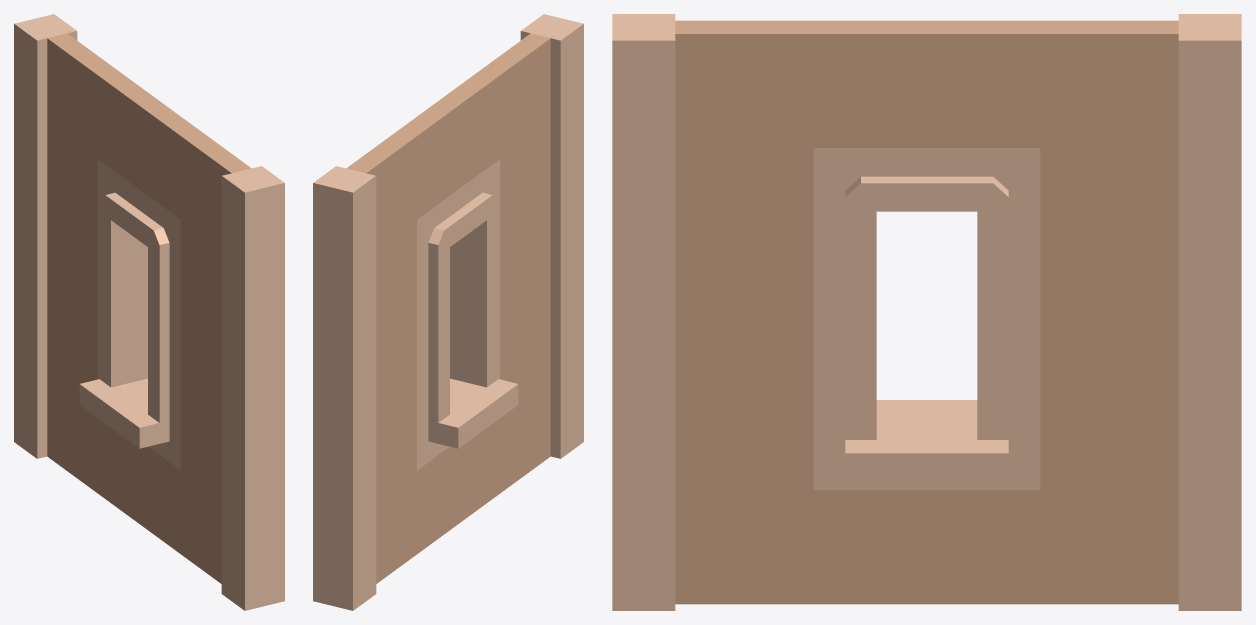
The picture shows the model from 3 angles, left to right: view 1: azimuth 30°, elevation 25°; view 2: azimuth 150°, elevation 25°; view 3: azimuth 270°, elevation 25°; orthographic projection. The views are drawn at different scales.
Parts seen in each view (by area): view 1: wallWoodWindowSmall; view 2: wallWoodWindowSmall; view 3: wallWoodWindowSmall.
Part boxes in pixels (x1,y1,x2,y2): wallWoodWindowSmall: [14, 14, 284, 610]; wallWoodWindowSmall: [313, 14, 583, 610]; wallWoodWindowSmall: [612, 14, 1241, 610].
Bounding box in the file's own units: 0.2 × 1 × 1.
